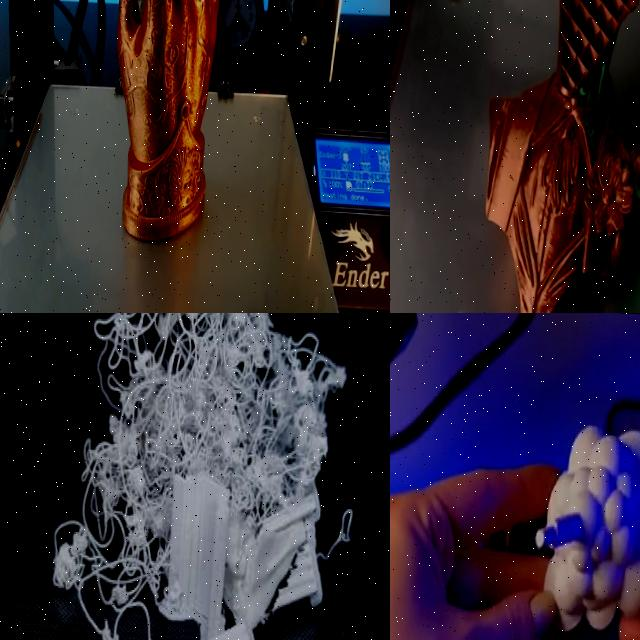spaghetti: (39, 313, 377, 640)
